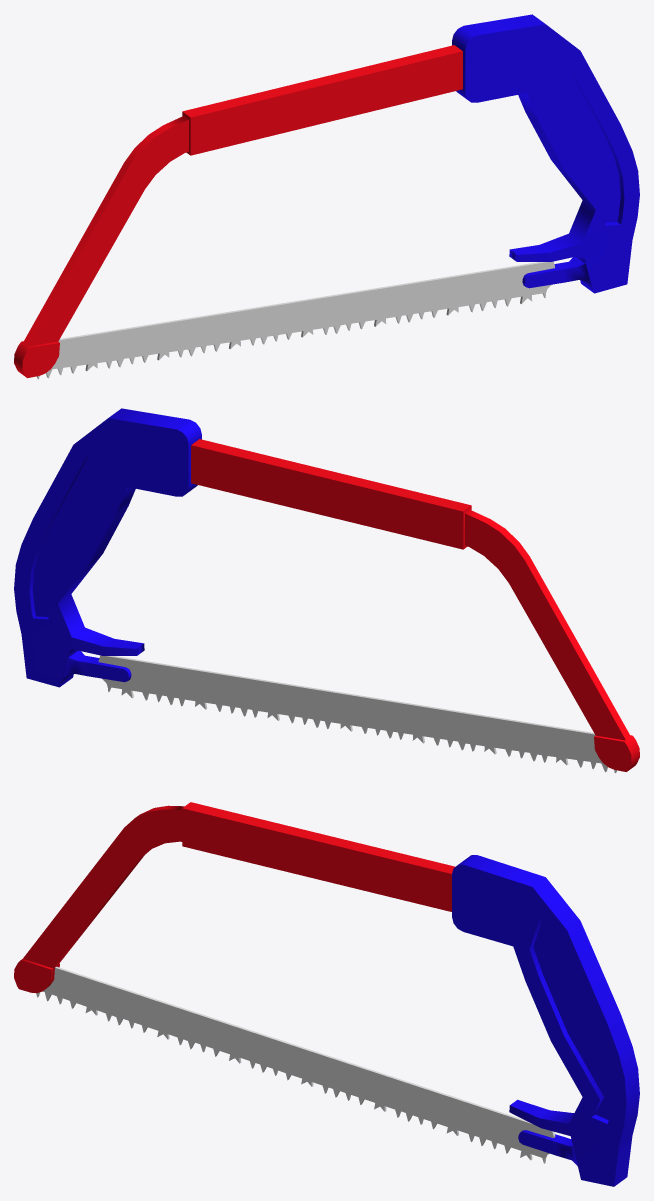
The model's file is Saw.fbx.
3 views of the same model, one above another, from view 1: azimuth 30°, elevation 25°; view 2: azimuth 150°, elevation 25°; view 3: azimuth 330°, elevation 25° (orthographic).
Parts seen in each view (by area): view 1: Cube, Plane; view 2: Cube, Plane; view 3: Cube, Plane.
Boxes of the visible parts, left/top/right/bottom form: Cube: left=14, top=14, right=639, bottom=378; Plane: left=37, top=261, right=554, bottom=379; Cube: left=14, top=408, right=639, bottom=771; Plane: left=98, top=655, right=616, bottom=773; Cube: left=14, top=802, right=639, bottom=1186; Plane: left=36, top=966, right=555, bottom=1163.
Bounding box in the file's own units: 63.43 × 28.25 × 2.38.
